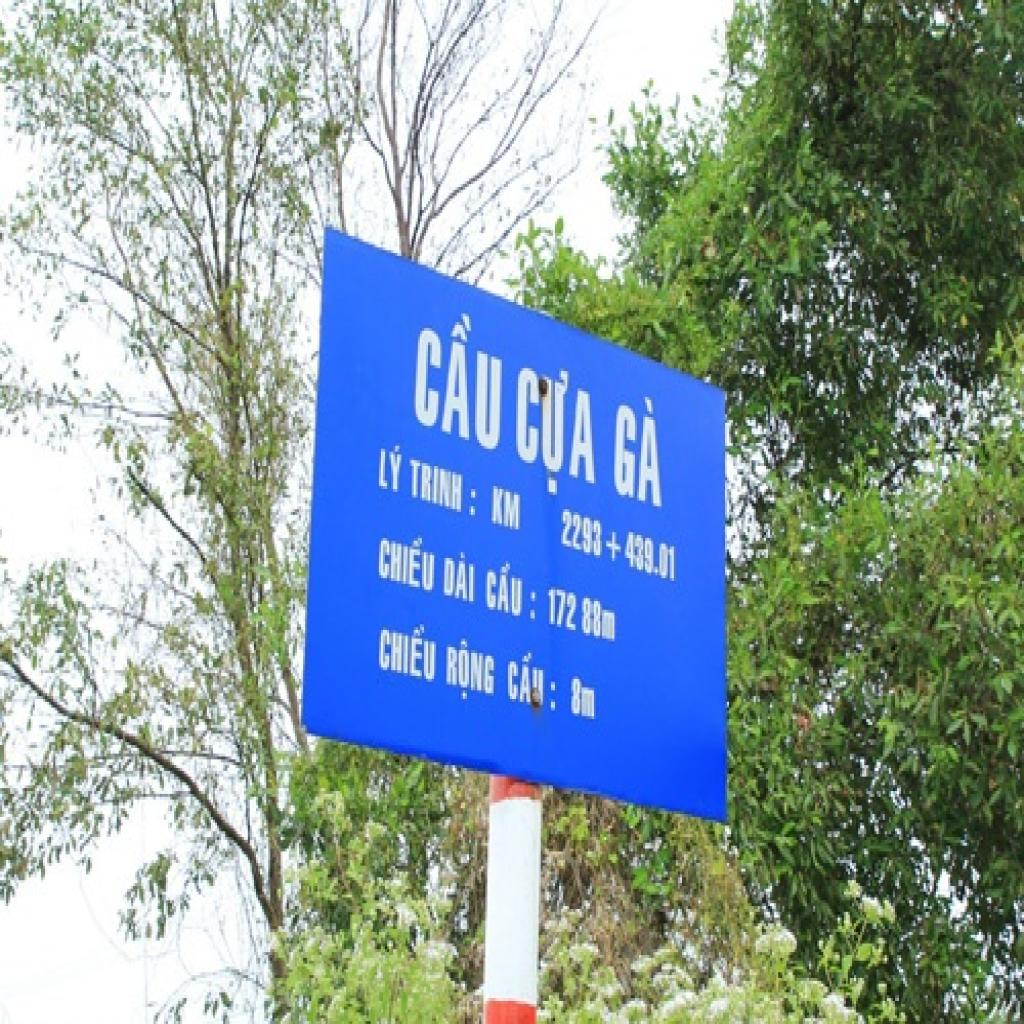text: (412, 291, 508, 463), (514, 348, 602, 518), (610, 380, 668, 518), (408, 452, 481, 526), (544, 581, 620, 650), (375, 524, 442, 598), (377, 610, 440, 687), (483, 549, 541, 630), (444, 630, 500, 713), (559, 504, 625, 572), (506, 647, 561, 716), (623, 526, 680, 590), (440, 546, 480, 610), (490, 480, 524, 538), (377, 437, 405, 501)
